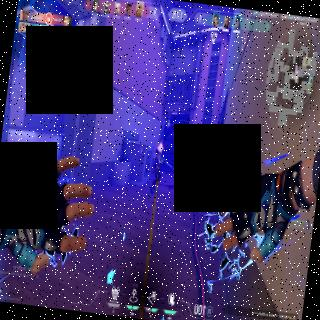ENEMY-BODY: (148, 143, 164, 196), (189, 148, 200, 178)
ENEMY-HEAD: (158, 144, 163, 153), (194, 150, 198, 156)
